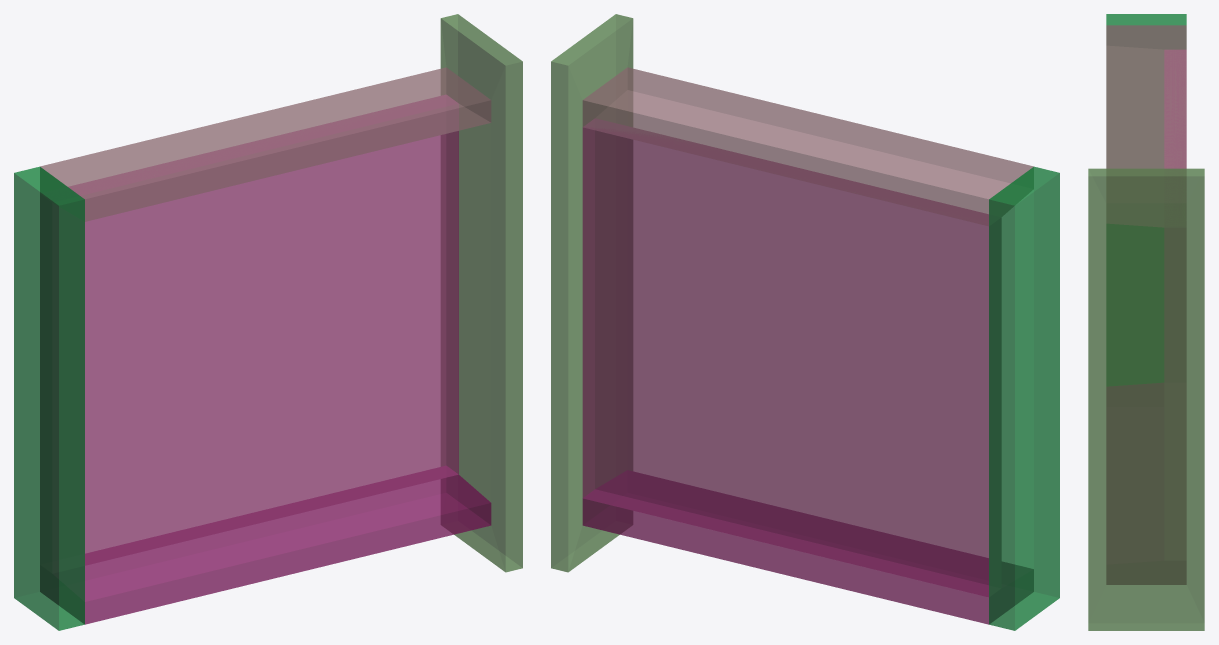
The model's file is Drawer_60_14.obj.
3 views of the same model, side by side, from view 1: azimuth 30°, elevation 25°; view 2: azimuth 150°, elevation 25°; view 3: azimuth 270°, elevation 25° (orthographic). The views are drawn at different scales.
Parts seen in each view (by area): view 1: Shape_IndexedFaceSet.003_Shape_IndexedFaceSet.089; view 2: Shape_IndexedFaceSet.003_Shape_IndexedFaceSet.089; view 3: Shape_IndexedFaceSet.003_Shape_IndexedFaceSet.089.
Part boxes in pixels (x1,y1,x2,y2): Shape_IndexedFaceSet.003_Shape_IndexedFaceSet.089: (14,14,522,630); Shape_IndexedFaceSet.003_Shape_IndexedFaceSet.089: (551,14,1059,630); Shape_IndexedFaceSet.003_Shape_IndexedFaceSet.089: (1088,14,1204,630).
Size of the model in its own units: 0.5628 by 0.6004 by 0.1394.
